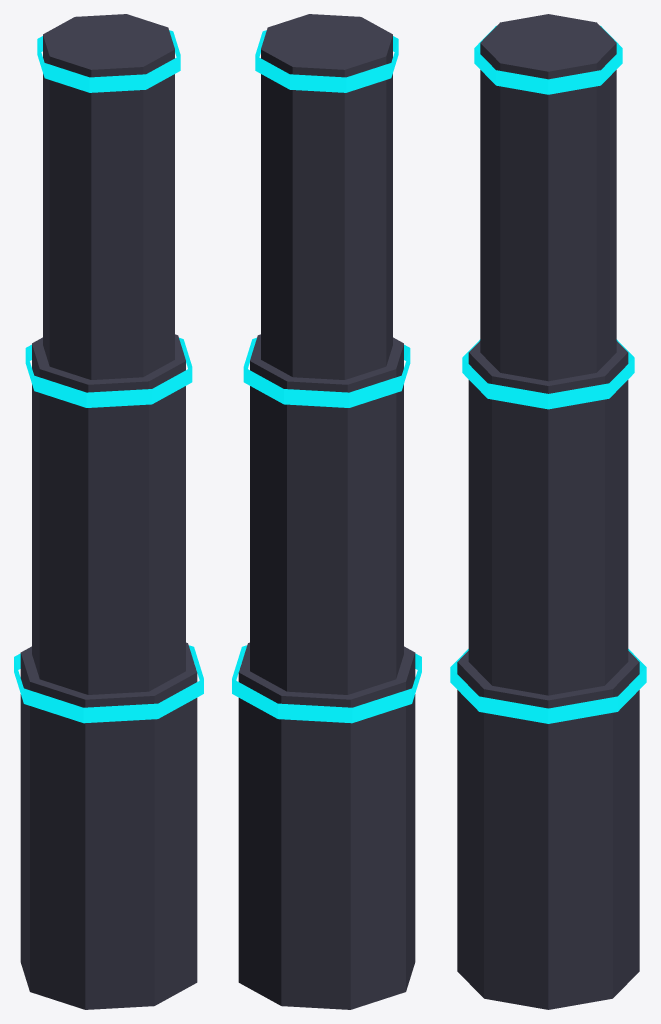
Rendered from prop_neon_tower.glb.
3 renders of one model, left to right at view 1: azimuth 30°, elevation 25°; view 2: azimuth 150°, elevation 25°; view 3: azimuth 270°, elevation 25°, orthographic.
Parts seen in each view (by area): view 1: prop_neon_tower; view 2: prop_neon_tower; view 3: prop_neon_tower.
Boxes of the visible parts, x1=… form: prop_neon_tower: x1=14, y1=14, x2=203, y2=1009; prop_neon_tower: x1=232, y1=14, x2=421, y2=1009; prop_neon_tower: x1=450, y1=14, x2=646, y2=1009.
Size of the model in its own units: 1.72 by 9 by 1.72.
